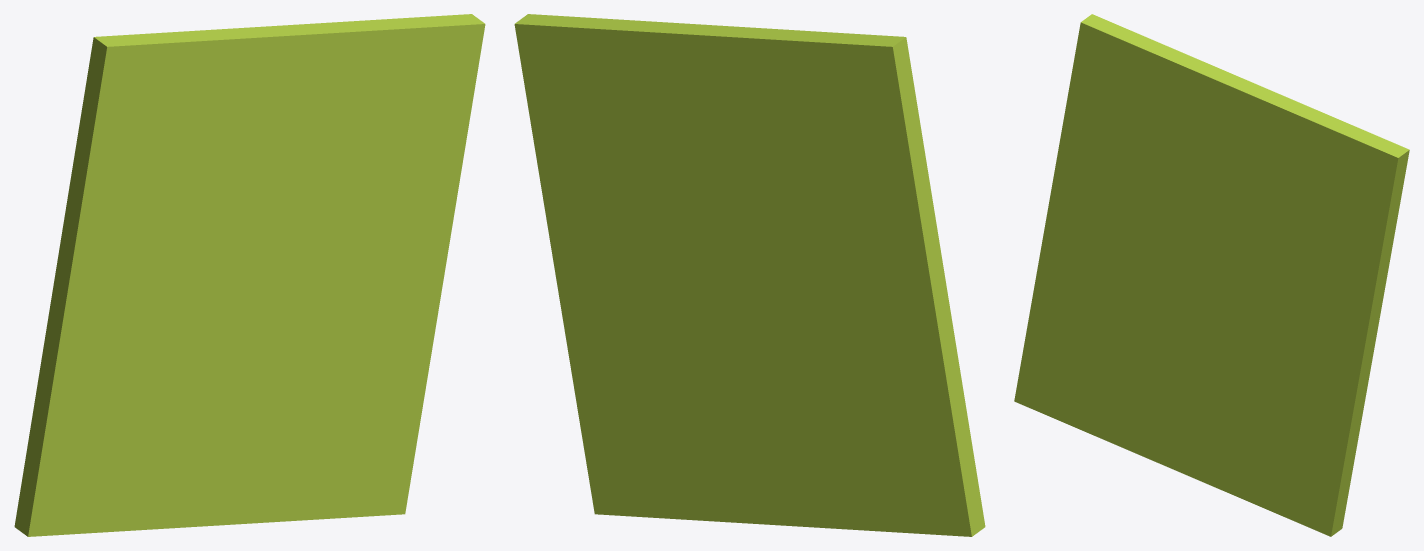
3 views of the same model, side by side, from view 1: azimuth 30°, elevation 25°; view 2: azimuth 150°, elevation 25°; view 3: azimuth 330°, elevation 25° (orthographic). The views are drawn at different scales.
Parts seen in each view (by area): view 1: osm-way27917482-F1; view 2: osm-way27917482-F1; view 3: osm-way27917482-F1.
Part boxes in pixels (bbox=[...]): osm-way27917482-F1: bbox=[14, 14, 485, 536]; osm-way27917482-F1: bbox=[514, 14, 985, 536]; osm-way27917482-F1: bbox=[1014, 14, 1409, 536].
Size of the model in its own units: 2.92 by 3.29 by 0.15.
